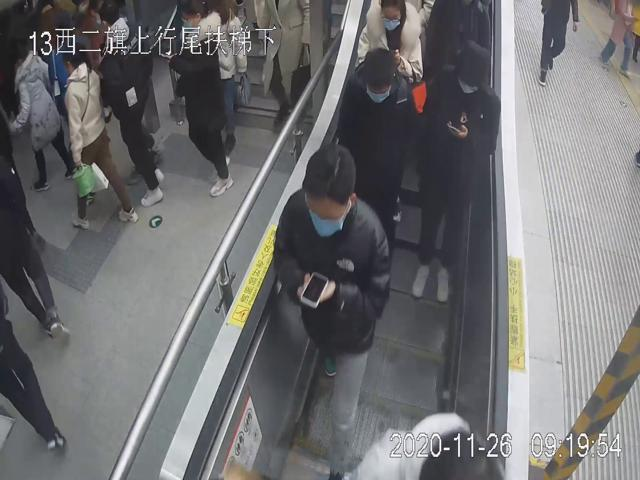person: (273, 140, 393, 480), (410, 41, 501, 304), (338, 41, 410, 237), (356, 0, 425, 88)
